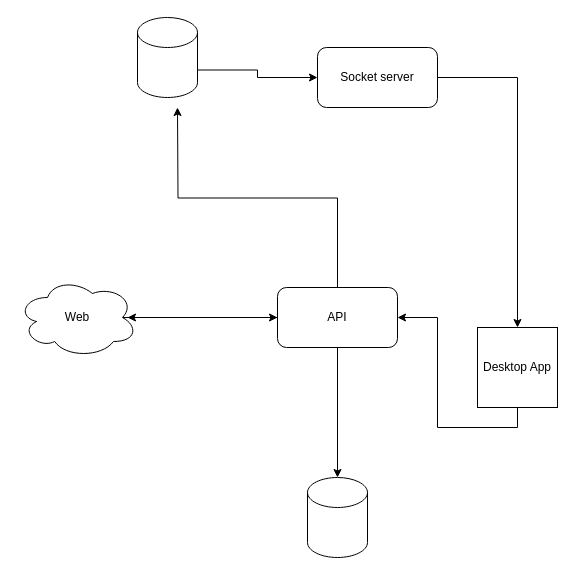
The diagram is 575 pixels wide and 575 high, and some of its shapes have lost their labels. The shapes that lost their labels are listed below. From the top down, each one's centre as x and y in pixels, then its label:
[167,57]: Redis
[337,517]: DB
